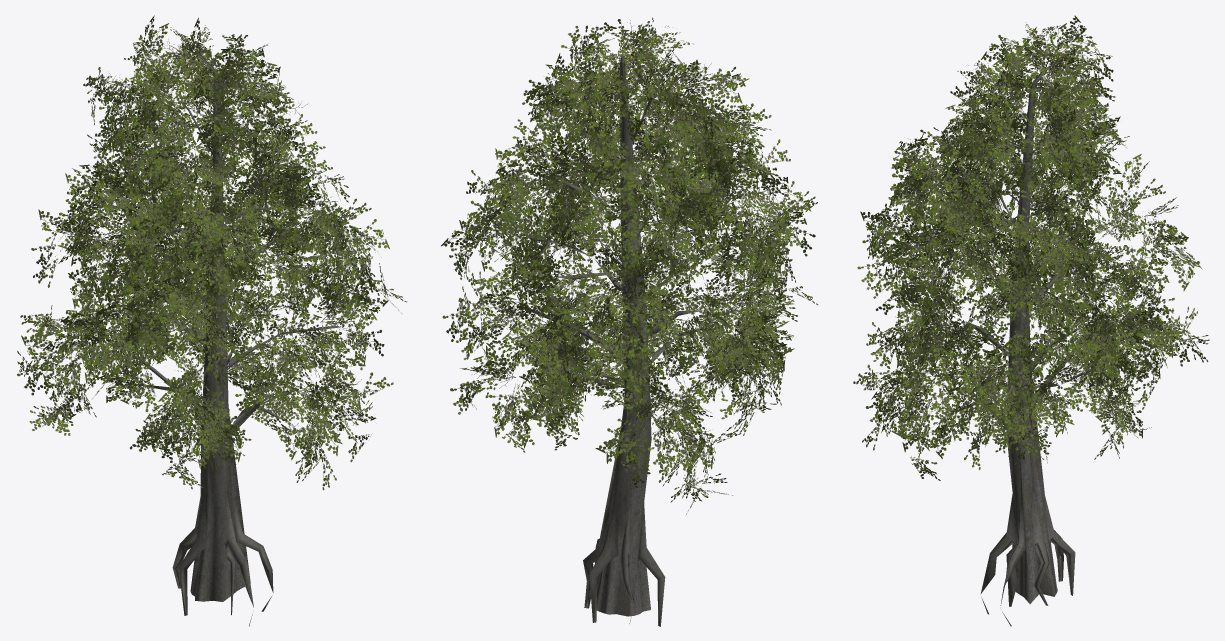
The model's file is tree_plane.gltf.
3 views of the same model, side by side, from view 1: azimuth 30°, elevation 25°; view 2: azimuth 150°, elevation 25°; view 3: azimuth 270°, elevation 25° (orthographic). The views are drawn at different scales.
Parts seen in each view (by area): view 1: tree_plane; view 2: tree_plane; view 3: tree_plane.
Part boxes in pixels (x1=…): tree_plane: x1=17, y1=15, x2=406, y2=626; tree_plane: x1=441, y1=17, x2=818, y2=626; tree_plane: x1=853, y1=15, x2=1209, y2=626.
Size of the model in its own units: 7.25 by 13 by 7.37.
Materials: 2 (2 with a texture image).
